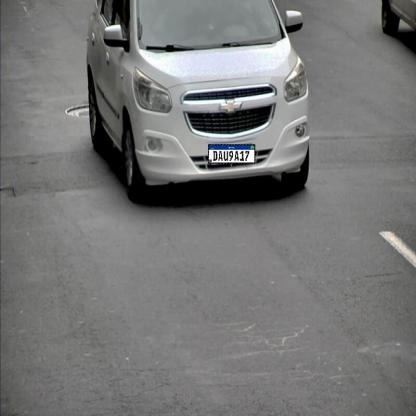PlacaM: (208, 144, 255, 164)
